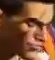kevin: (9, 3, 54, 58)
